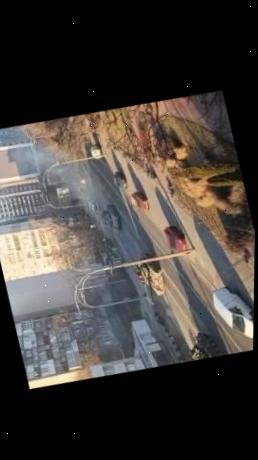car: (161, 223, 187, 254), (128, 189, 149, 215), (111, 170, 127, 191)
tank: (129, 249, 169, 309), (175, 322, 227, 366), (99, 202, 122, 239)
